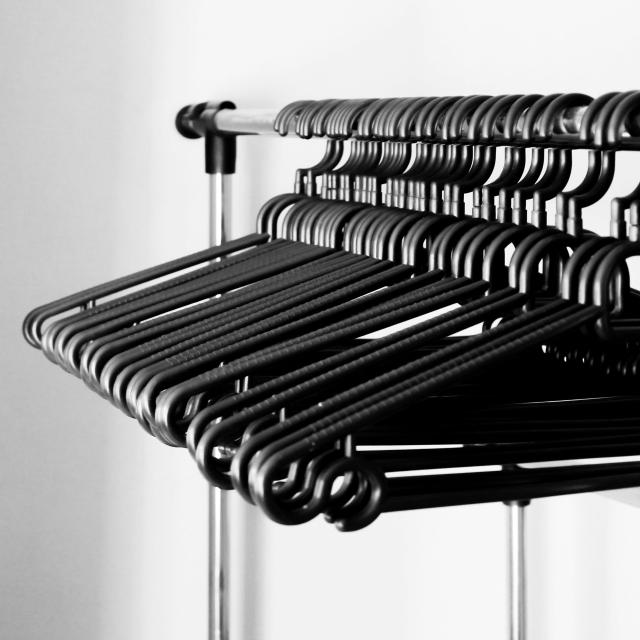Plastic: (16, 71, 640, 543)
